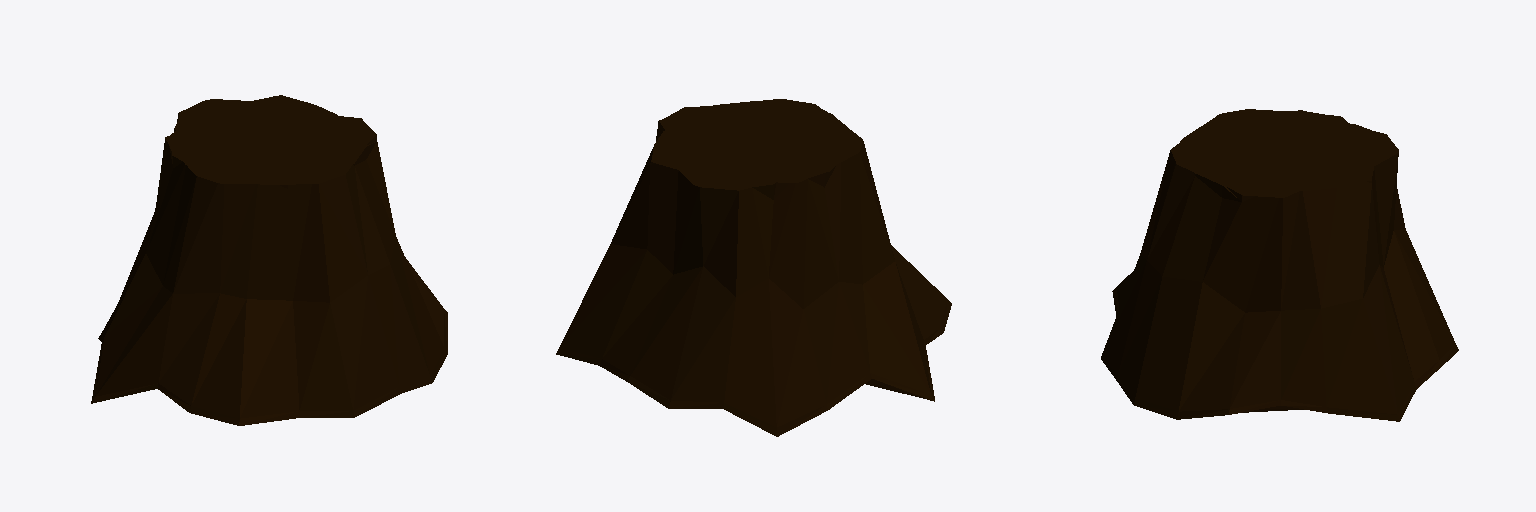
File: tree_trunk.obj
3 renders of one model, left to right at view 1: azimuth 30°, elevation 25°; view 2: azimuth 150°, elevation 25°; view 3: azimuth 270°, elevation 25°, orthographic.
Visible parts, largest first — view 1: Cylinder; view 2: Cylinder; view 3: Cylinder.
Boxes of the visible parts, box(x1,y1,x2,y2) form: Cylinder: box(91, 95, 447, 425); Cylinder: box(556, 99, 951, 436); Cylinder: box(1101, 109, 1458, 421).
Bounding box in the file's own units: 7.12 × 4.51 × 6.65.